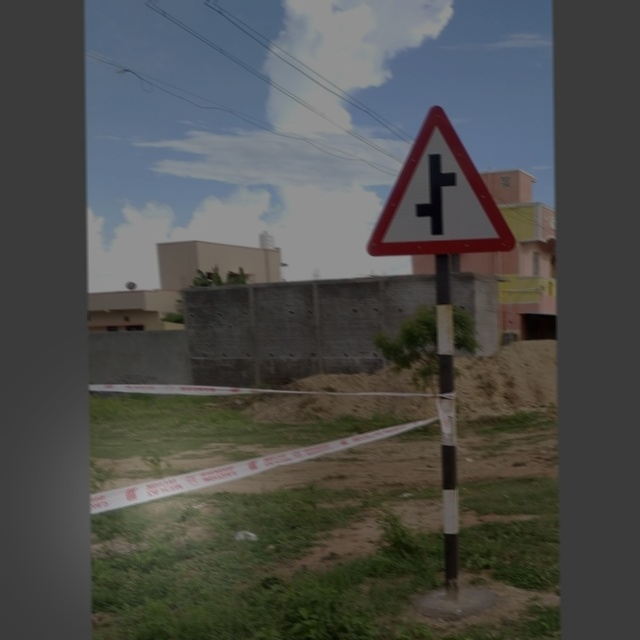Staggered_Intersection: (371, 93, 518, 254)
